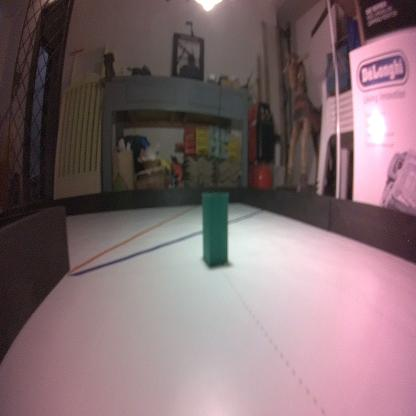green: (199, 189, 232, 269)
